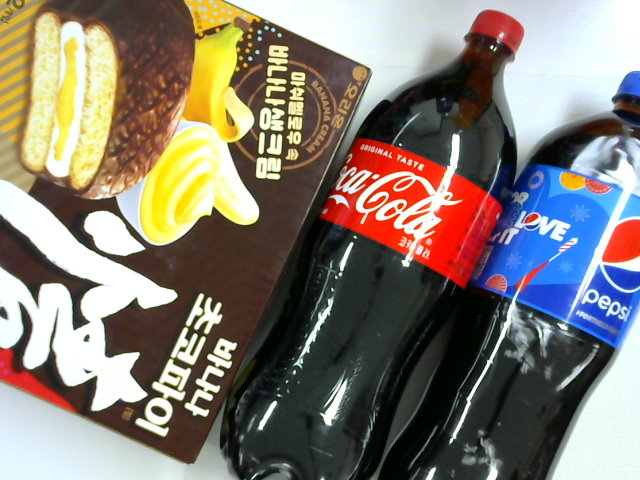Choco_Pie_Banana: (3, 1, 333, 411)
Coca_Cola_1.5L: (214, 22, 537, 476)
Pepsi_Cola_1.5L: (391, 69, 632, 480)
